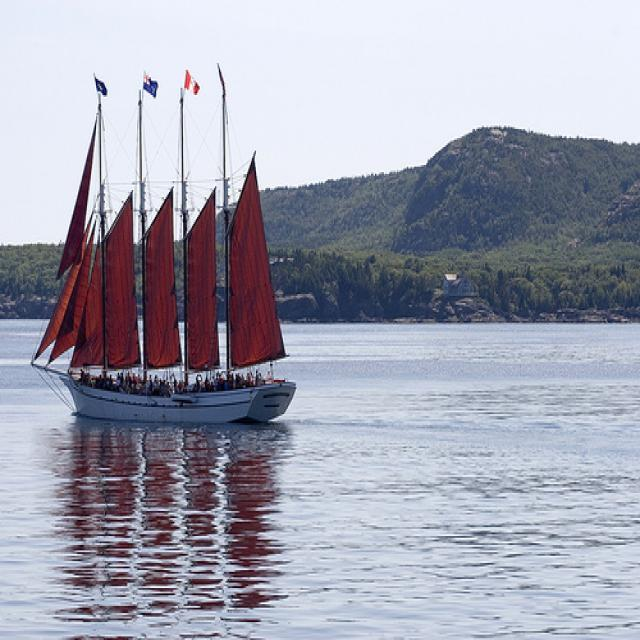Ship: (47, 72, 301, 428)
